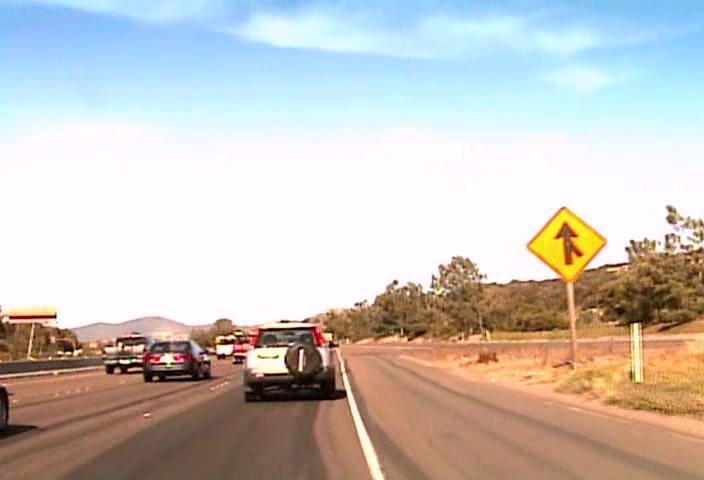merge: (525, 206, 607, 282)
